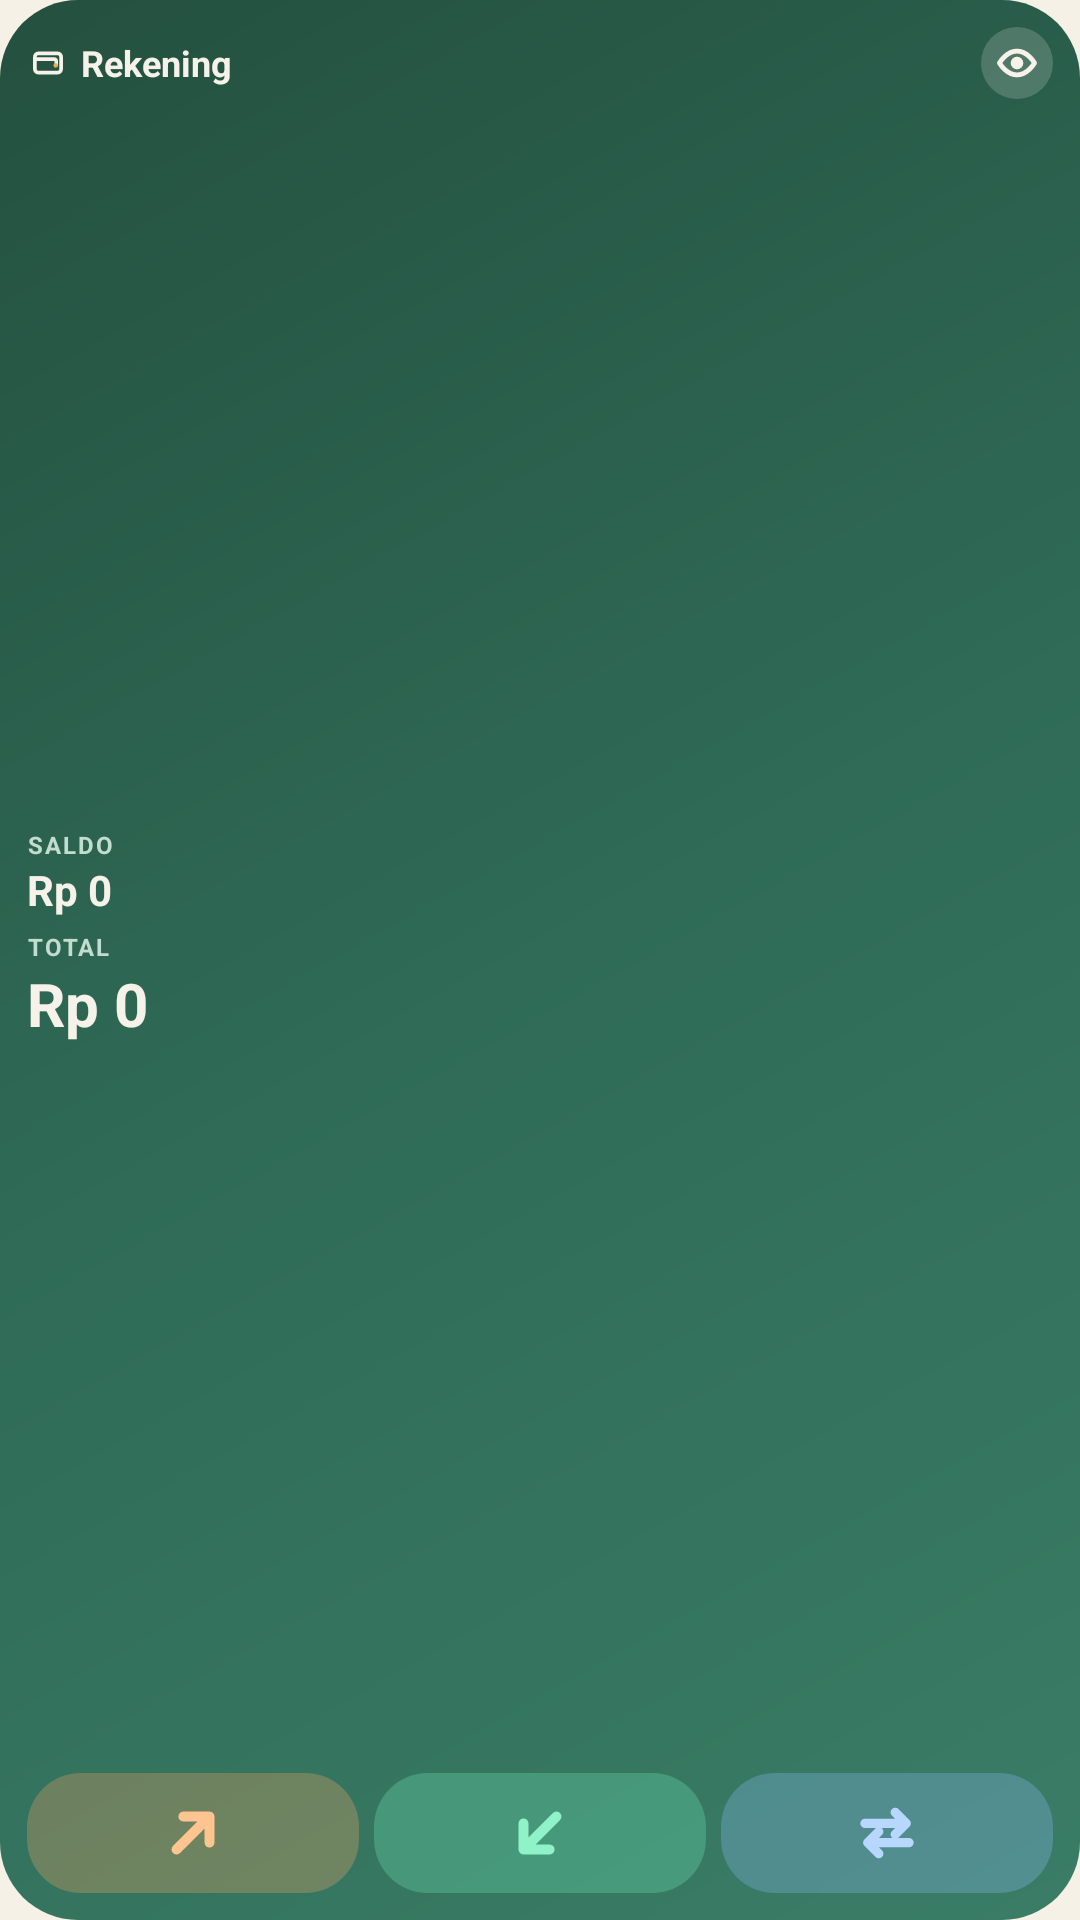

Named icons in this screenshot (1080px×1920px) and their bounding boxes, [left=x1, top=y1, right=x2, bottom=y2]:
Pendapatan: [left=518, top=1811, right=562, bottom=1855]
Pengeluaran: [left=171, top=1811, right=215, bottom=1855]
Sembunyikan atau tampilkan nominal: [left=981, top=27, right=1053, bottom=99]
Transfer: [left=860, top=1807, right=914, bottom=1859]
